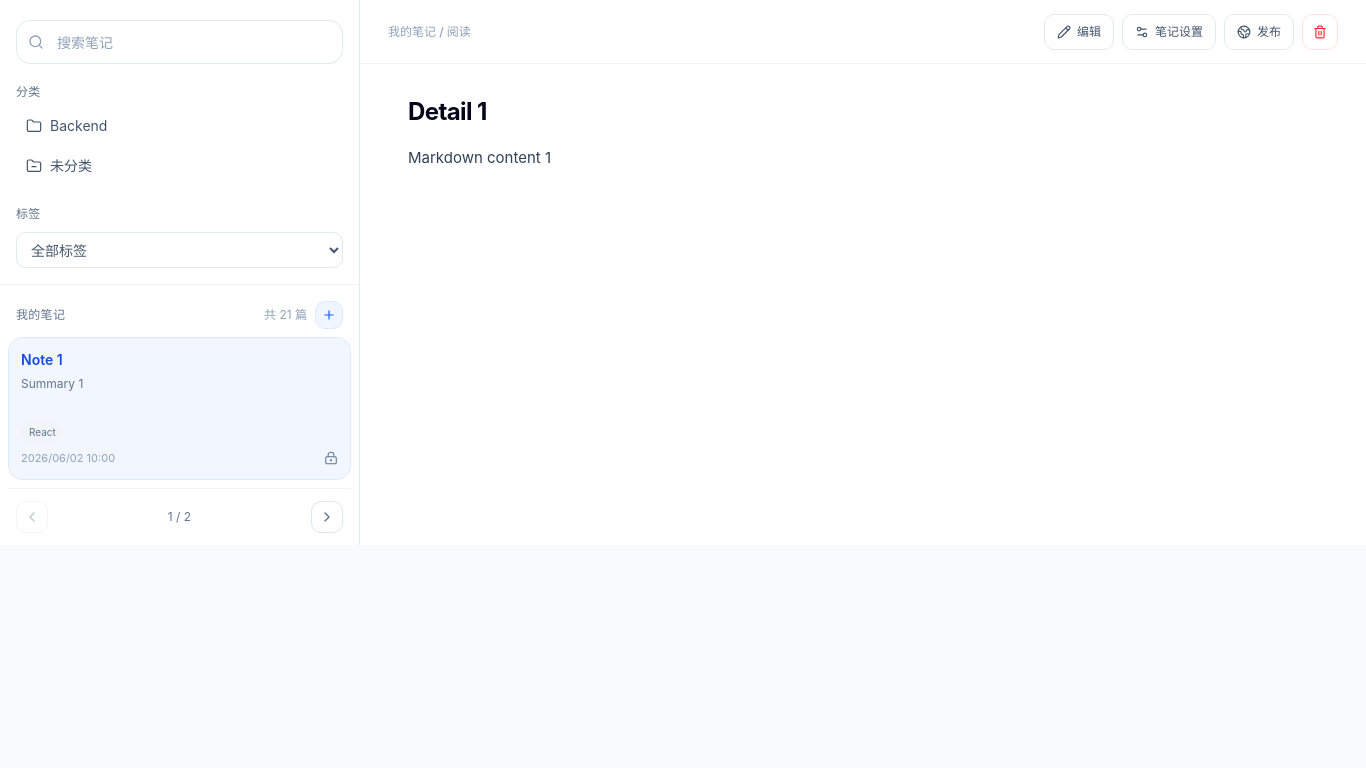
Test case: NotesWorkspacePage › loads the next page and updates pagination controls
Expected: the heading "Detail 1" is shown, [408,97,487,126]
Expected: the button named "上一页" is disabled, [16,500,48,532]
Click the button named "下一页": (327, 516) [311,500,343,532]
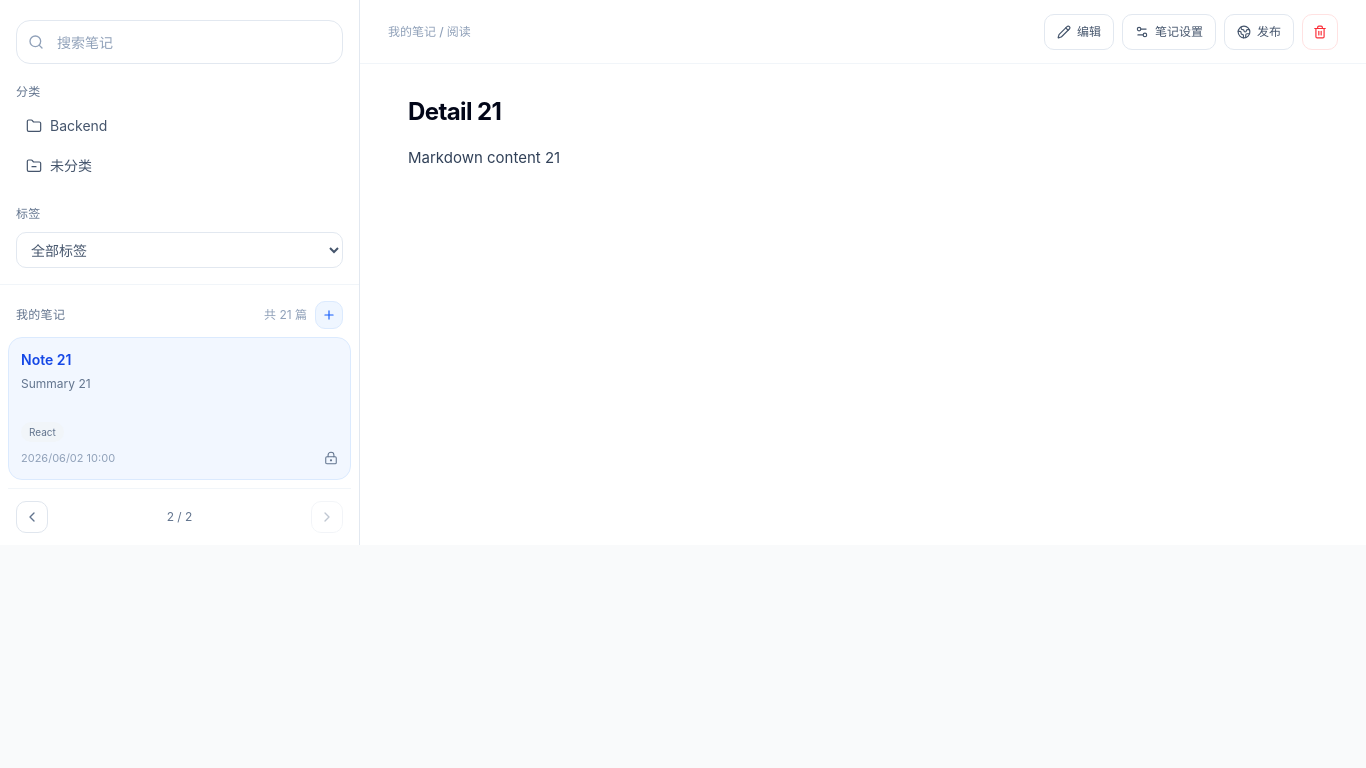
Expected: the button named "上一页" is enabled, [16,500,48,532]
Now the heading "Detail 21" is shown, box [408,97,501,126]
Now the text "2 / 2" is shown, box [167,508,192,524]
